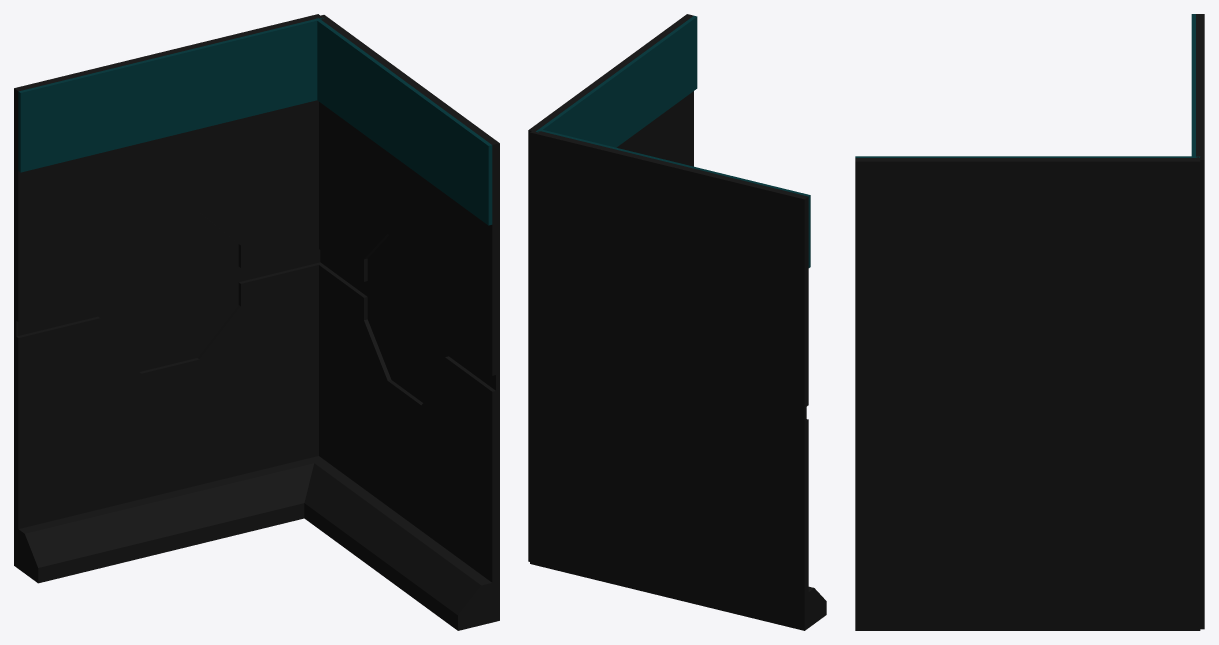
Rendered from Wall2.obj.
The picture shows the model from 3 angles, left to right: view 1: azimuth 30°, elevation 25°; view 2: azimuth 150°, elevation 25°; view 3: azimuth 270°, elevation 25°; orthographic projection. The views are drawn at different scales.
Parts seen in each view (by area): view 1: Wall001, Wall, Wall_Panel, Triangle_Connecter, Wall_Panel001, Triangle_Connecter001; view 2: Wall001, Wall_Panel001, Wall, Wall_Panel, Triangle_Connecter; view 3: Wall, Wall001, Wall_Panel, Wall_Panel001.
Boxes of the visible parts, x1=… form: Wall001: x1=14, y1=14, x2=321, y2=566; Wall: x1=317, y1=15, x2=499, y2=622; Wall_Panel: x1=18, y1=17, x2=324, y2=172; Triangle_Connecter: x1=16, y1=456, x2=324, y2=583; Wall_Panel001: x1=316, y1=17, x2=492, y2=225; Triangle_Connecter001: x1=304, y1=457, x2=492, y2=630; Wall001: x1=530, y1=131, x2=808, y2=630; Wall_Panel001: x1=536, y1=15, x2=697, y2=147; Wall: x1=528, y1=14, x2=693, y2=561; Wall_Panel: x1=539, y1=129, x2=810, y2=267; Triangle_Connecter: x1=806, y1=586, x2=826, y2=627; Wall: x1=855, y1=158, x2=1200, y2=630; Wall001: x1=1196, y1=14, x2=1204, y2=629; Wall_Panel: x1=1191, y1=14, x2=1195, y2=157; Wall_Panel001: x1=855, y1=156, x2=1200, y2=157.
Size of the model in its own units: 4.05 by 6 by 4.05.
